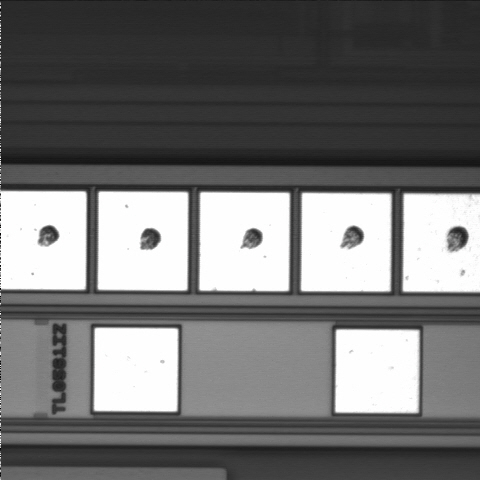pad: (199, 192, 290, 291), (98, 192, 188, 290), (301, 193, 391, 291), (94, 328, 178, 411), (335, 330, 419, 413)
